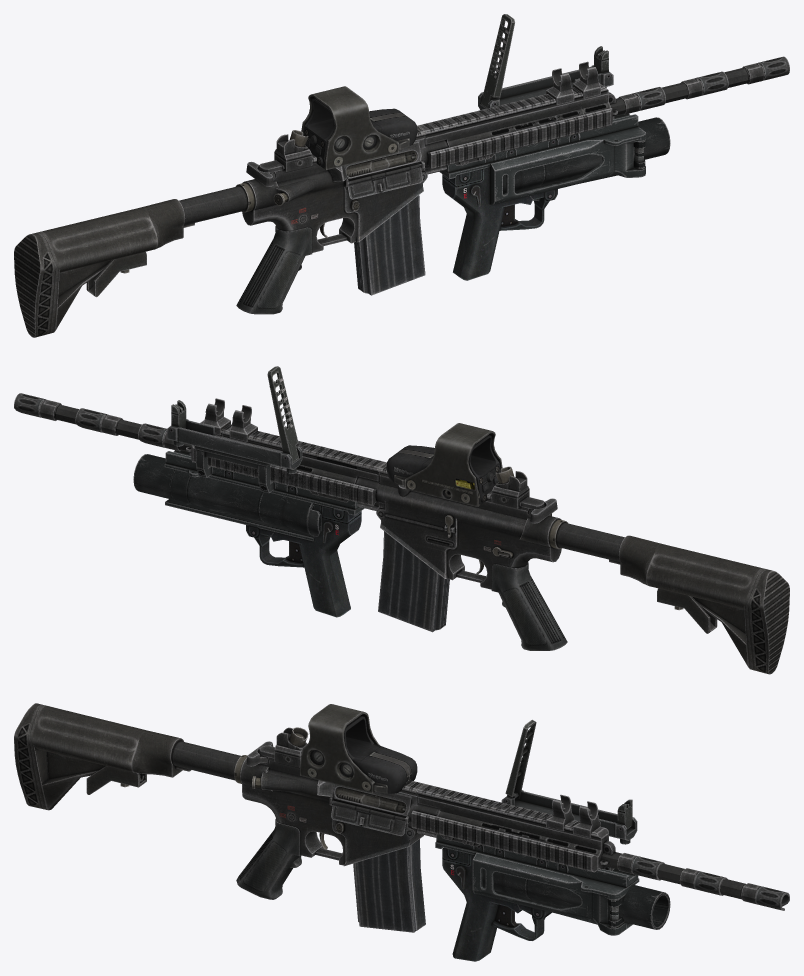
File: AssaultRifle04.FBX
3 views of the same model, one above another, from view 1: azimuth 30°, elevation 25°; view 2: azimuth 150°, elevation 25°; view 3: azimuth 330°, elevation 25° (orthographic).
Visible parts, largest first — view 1: AssaultRifle04_Body01, AssaultRifle04_Imp03, AssaultRifle04_Body03, AssaultRifle04_Imp02, AssaultRifle04_Body04, AssaultRifle04_Imp04, AssaultRifle04_Imp01, AssaultRifle04_Body02; view 2: AssaultRifle04_Body01, AssaultRifle04_Imp03, AssaultRifle04_Imp02, AssaultRifle04_Body04, AssaultRifle04_Body03, AssaultRifle04_Imp04, AssaultRifle04_Imp01, AssaultRifle04_Body02; view 3: AssaultRifle04_Body01, AssaultRifle04_Imp03, AssaultRifle04_Body03, AssaultRifle04_Imp02, AssaultRifle04_Body04, AssaultRifle04_Imp04, AssaultRifle04_Imp01, AssaultRifle04_Body02.
Boxes of the visible parts, x1,y1,x2,y2 form: AssaultRifle04_Body01: (14, 125, 448, 337); AssaultRifle04_Imp03: (439, 14, 670, 280); AssaultRifle04_Body03: (418, 61, 617, 173); AssaultRifle04_Imp02: (301, 86, 417, 169); AssaultRifle04_Body04: (421, 68, 584, 174); AssaultRifle04_Imp04: (610, 56, 789, 115); AssaultRifle04_Imp01: (610, 71, 728, 109); AssaultRifle04_Body02: (617, 87, 665, 114); AssaultRifle04_Body01: (356, 462, 789, 674); AssaultRifle04_Imp03: (133, 366, 364, 617); AssaultRifle04_Imp02: (386, 423, 502, 506); AssaultRifle04_Body04: (219, 405, 383, 510); AssaultRifle04_Body03: (186, 398, 385, 510); AssaultRifle04_Imp04: (14, 393, 140, 432); AssaultRifle04_Imp01: (75, 408, 191, 446); AssaultRifle04_Body02: (138, 423, 191, 451); AssaultRifle04_Body01: (14, 703, 439, 932); AssaultRifle04_Imp03: (435, 719, 670, 961); AssaultRifle04_Body03: (411, 784, 615, 872); AssaultRifle04_Imp02: (299, 704, 417, 793); AssaultRifle04_Body04: (412, 784, 577, 861); AssaultRifle04_Imp04: (601, 852, 789, 910); AssaultRifle04_Imp01: (602, 852, 727, 895); AssaultRifle04_Body02: (617, 853, 664, 880).
Size of the model in its own units: 1 by 0.2995 by 0.08.
Materials: 4 (4 with a texture image).
